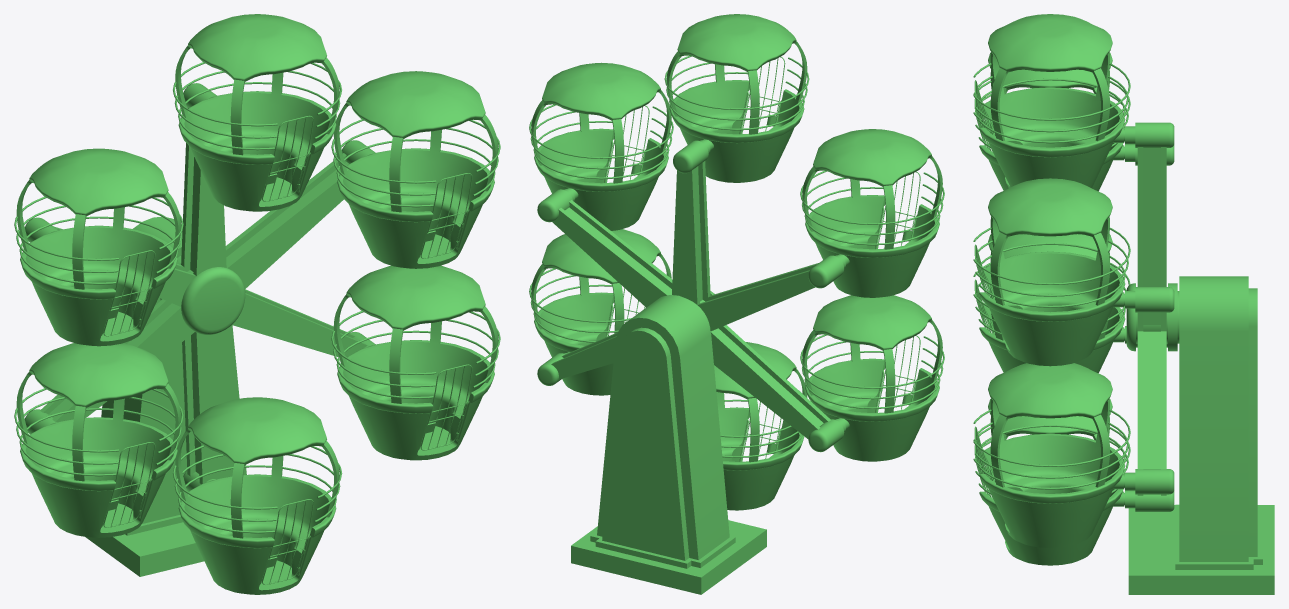
The model's file is Little_ferris.fbx.
The picture shows the model from 3 angles, left to right: view 1: azimuth 30°, elevation 25°; view 2: azimuth 150°, elevation 25°; view 3: azimuth 270°, elevation 25°; orthographic projection. The views are drawn at different scales.
Parts seen in each view (by area): view 1: Rotator, Pod_1_4, Pod_1_2, Pod_1_3, Pod_1, Pod_1_5, Pod_1_1, Small_ferris, Door_1_6, Door_1_3, Door_1_5, Door_1_2 (+2 smaller); view 2: Small_ferris, Rotator, Pod_1_4, Pod_1_3, Pod_1_5, Pod_1_2, Pod_1_1, Pod_1; view 3: Small_ferris, Pod_1_2, Pod_1_1, Pod_1_3, Rotator, Pod_1, Pod_1_5, Pod_1_4.
Part boxes in pixels (x1,y1,x2,y2): Rotator: (24, 83, 375, 491); Pod_1_4: (14, 148, 183, 346); Pod_1_2: (331, 71, 500, 268); Pod_1_3: (173, 14, 341, 211); Pod_1: (172, 397, 342, 594); Pod_1_5: (14, 343, 183, 537); Pod_1_1: (331, 265, 500, 460); Small_ferris: (85, 216, 246, 576); Door_1_6: (103, 442, 155, 527); Door_1_3: (420, 173, 472, 258); Door_1_5: (103, 250, 155, 336); Door_1_2: (420, 364, 472, 450); Small_ferris: (571, 295, 766, 594); Rotator: (537, 140, 845, 452); Pod_1_4: (800, 129, 944, 297); Pod_1_3: (664, 14, 809, 182); Pod_1_5: (800, 295, 944, 461); Pod_1_2: (529, 62, 673, 230); Pod_1_1: (529, 229, 671, 395); Pod_1: (714, 342, 807, 510); Small_ferris: (1128, 276, 1274, 594); Pod_1_2: (973, 178, 1130, 366); Pod_1_1: (973, 363, 1130, 547); Pod_1_3: (973, 14, 1130, 188); Rotator: (1125, 122, 1179, 511); Pod_1: (973, 399, 1130, 565); Pod_1_5: (973, 234, 1130, 373); Pod_1_4: (973, 52, 1130, 191).
Size of the model in its own units: 745 by 859 by 442.
